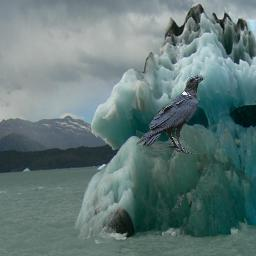Crow: (136, 74, 206, 154)
